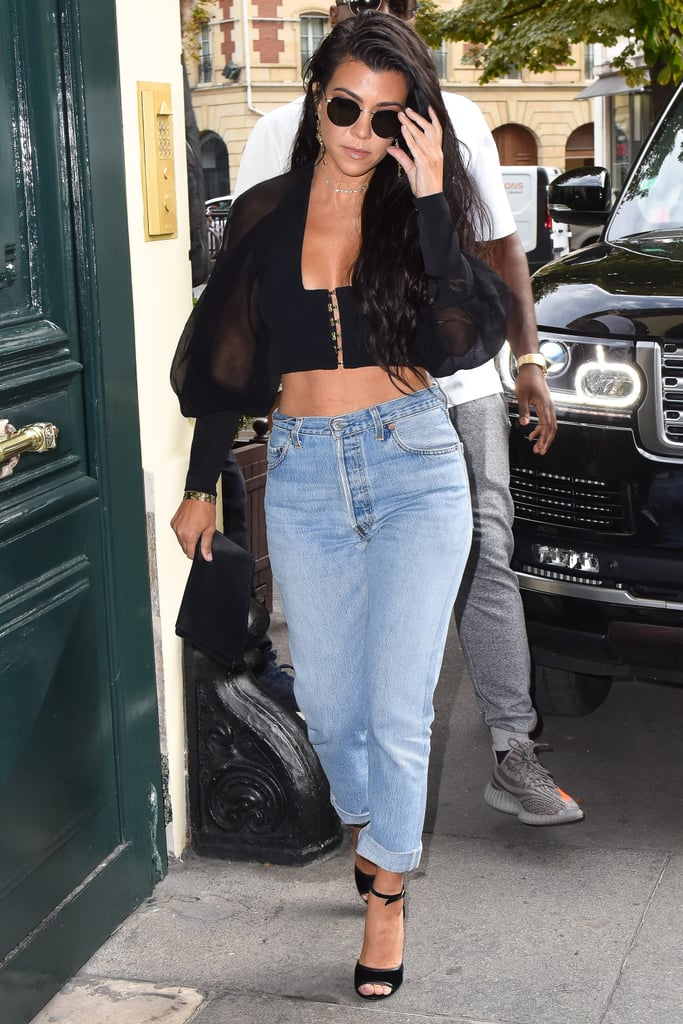jeans: (251, 399, 451, 874)
sunglasses: (314, 93, 419, 150)
